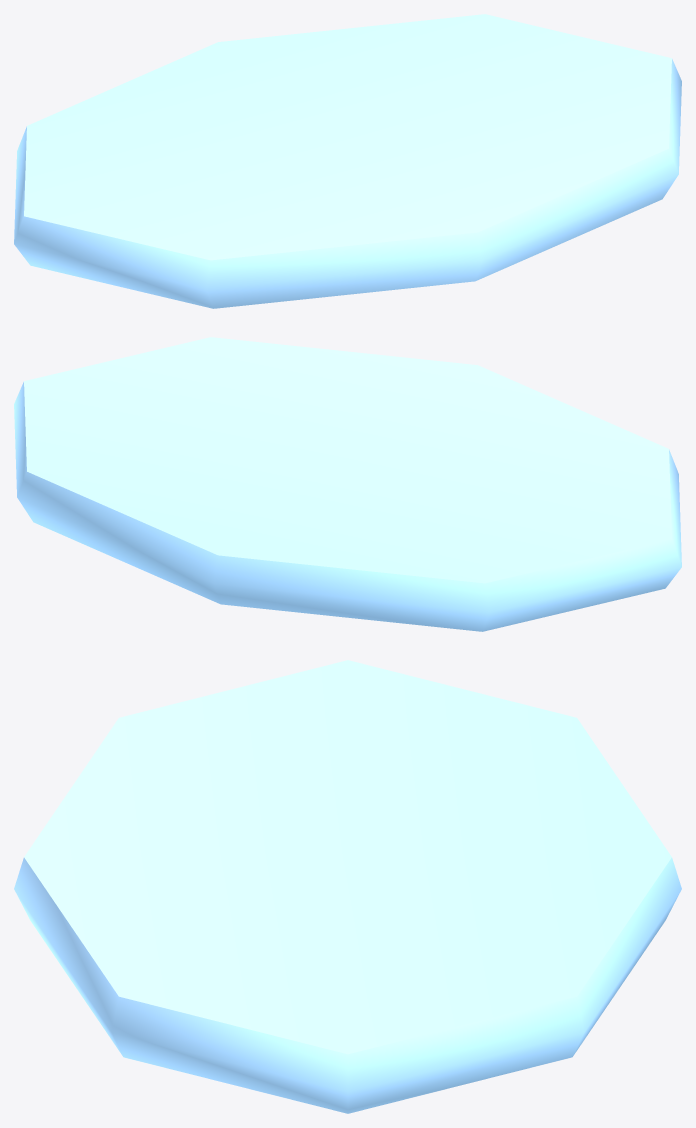
Rendered from steel_guard_058.glb.
The picture shows the model from 3 angles, top to bottom: view 1: azimuth 30°, elevation 25°; view 2: azimuth 150°, elevation 25°; view 3: azimuth 270°, elevation 25°; orthographic projection. The views are drawn at different scales.
Visible parts, largest first — view 1: steel_guard_058; view 2: steel_guard_058; view 3: steel_guard_058.
Part boxes in pixels (x1,y1,x2,y2): steel_guard_058: (14,14,681,308); steel_guard_058: (14,337,681,631); steel_guard_058: (14,660,681,1113).
Size of the model in its own units: 5.51 by 0.4014 by 3.83.
1 material, 1 textured.
